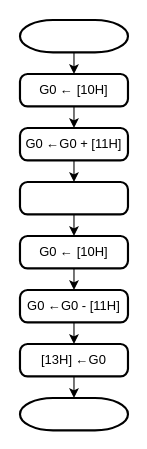
This 147x449 diagram has some shape labels left out. Each missing label, with the centre of its shape:
"[12H] ←G0" goes at (73,197).
"END" goes at (73,413).
"START" goes at (73,35).
